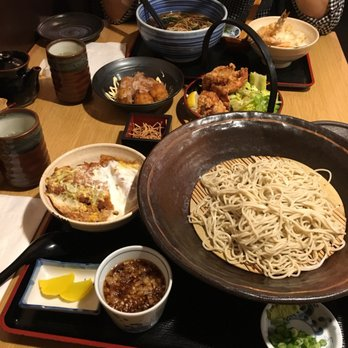Soba: (191, 160, 348, 276)
